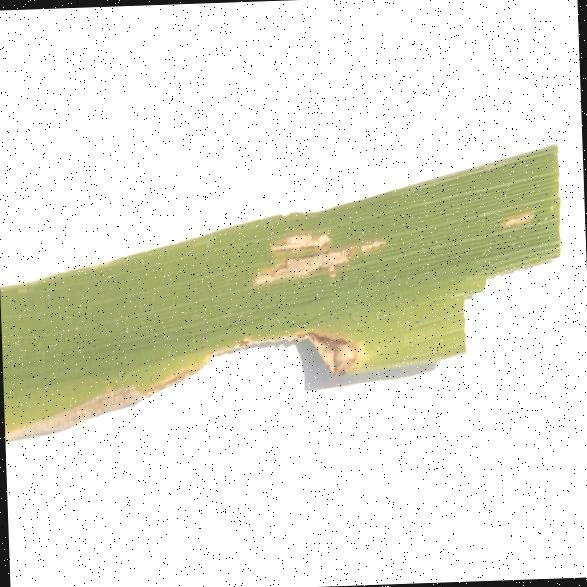Bacteria_Leaf_Blight: (231, 171, 411, 290), (484, 169, 552, 243)
